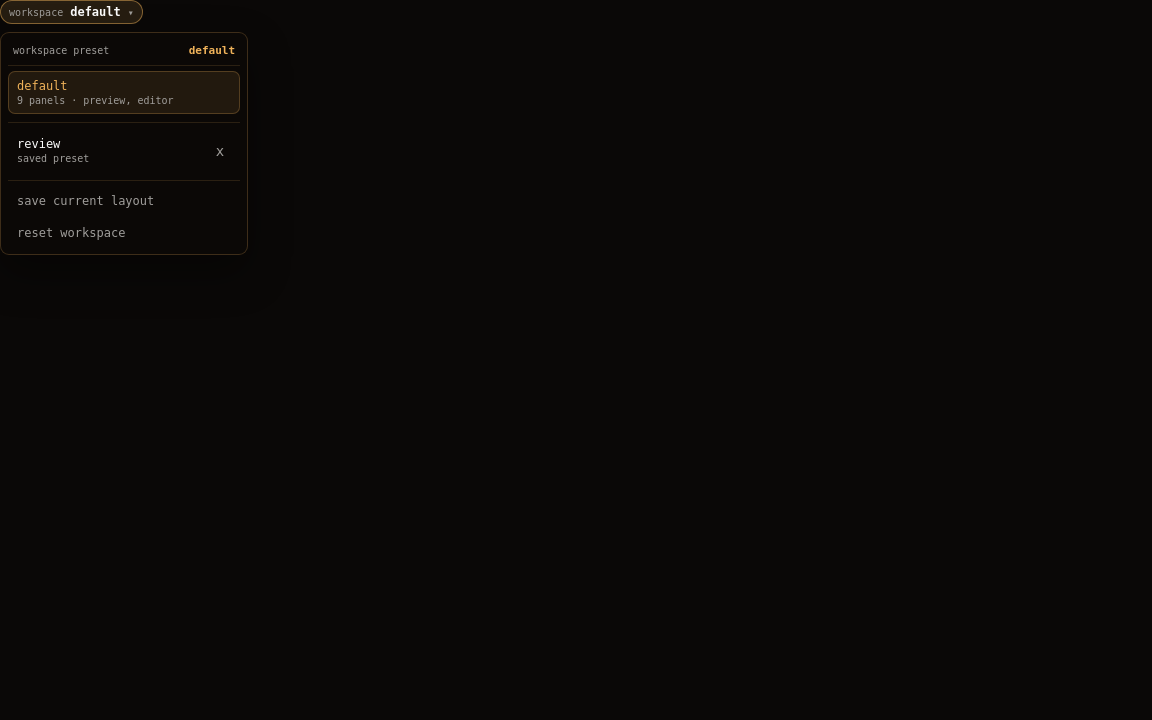
it: workspace menu rejects built-in and existing preset names case-insensitively
The width and height of the screenshot is (1152, 720).
Click the menu item "save current layout": (124, 201) [8,187,240,215]
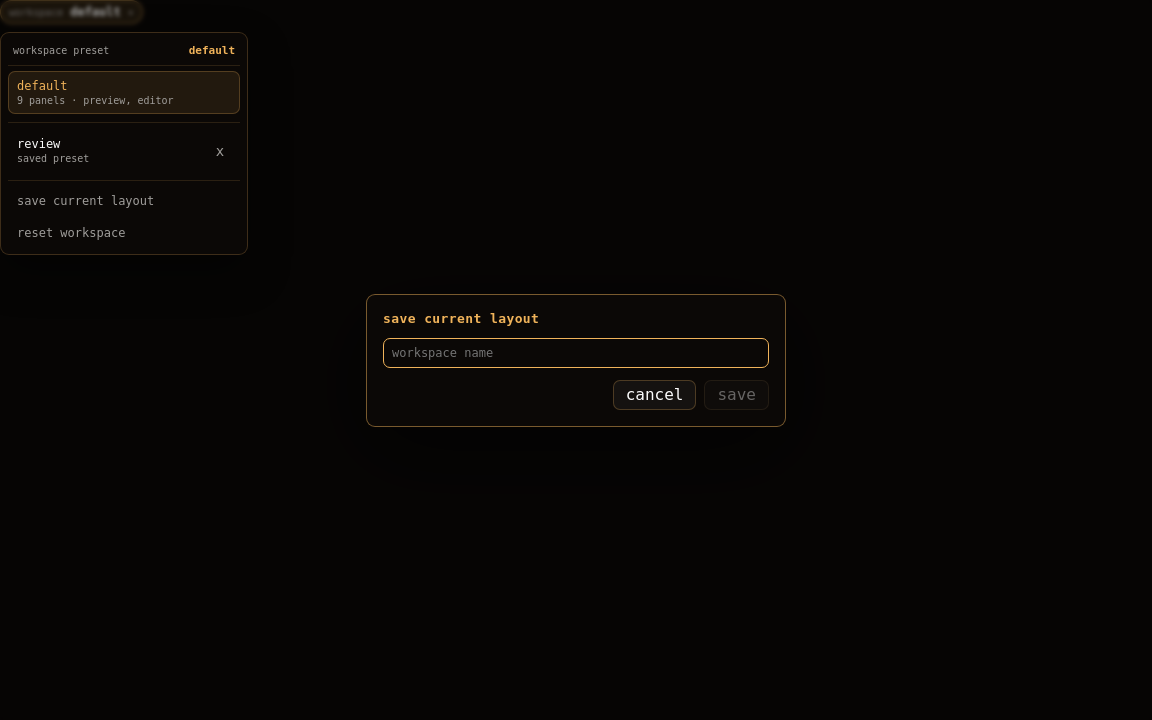
In the field labelled "workspace name": (576, 352) [383,338,769,368], type "default"
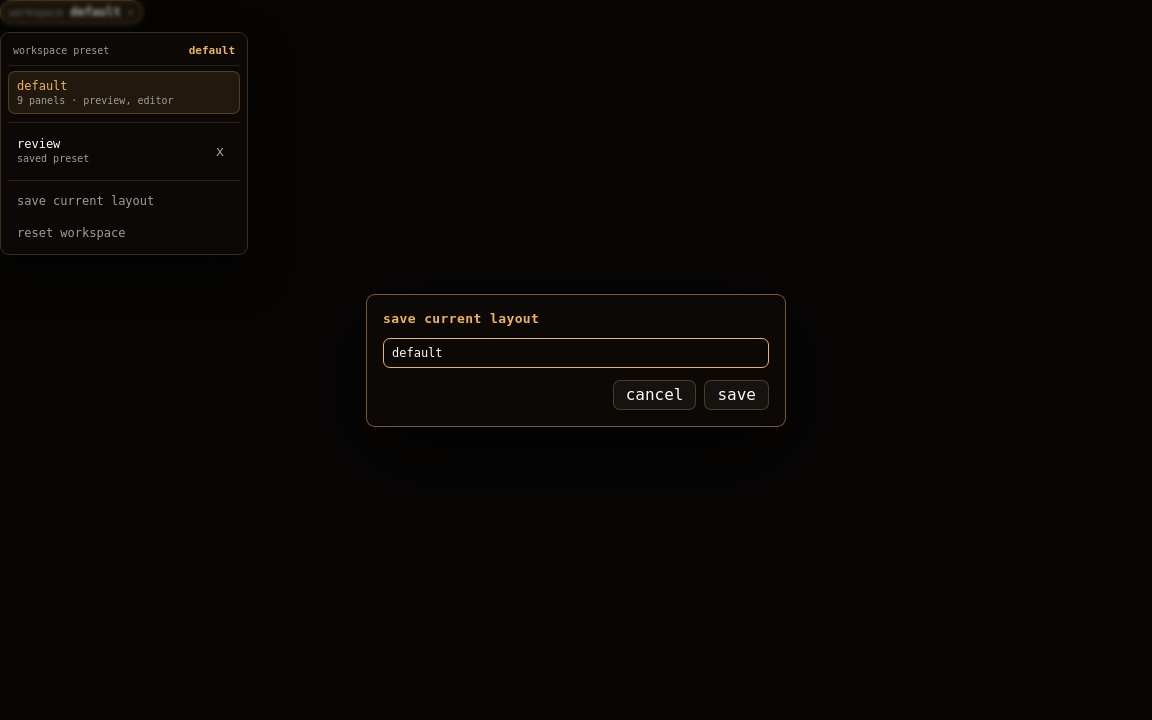
Click the button "save": (737, 394) [704,380,769,410]
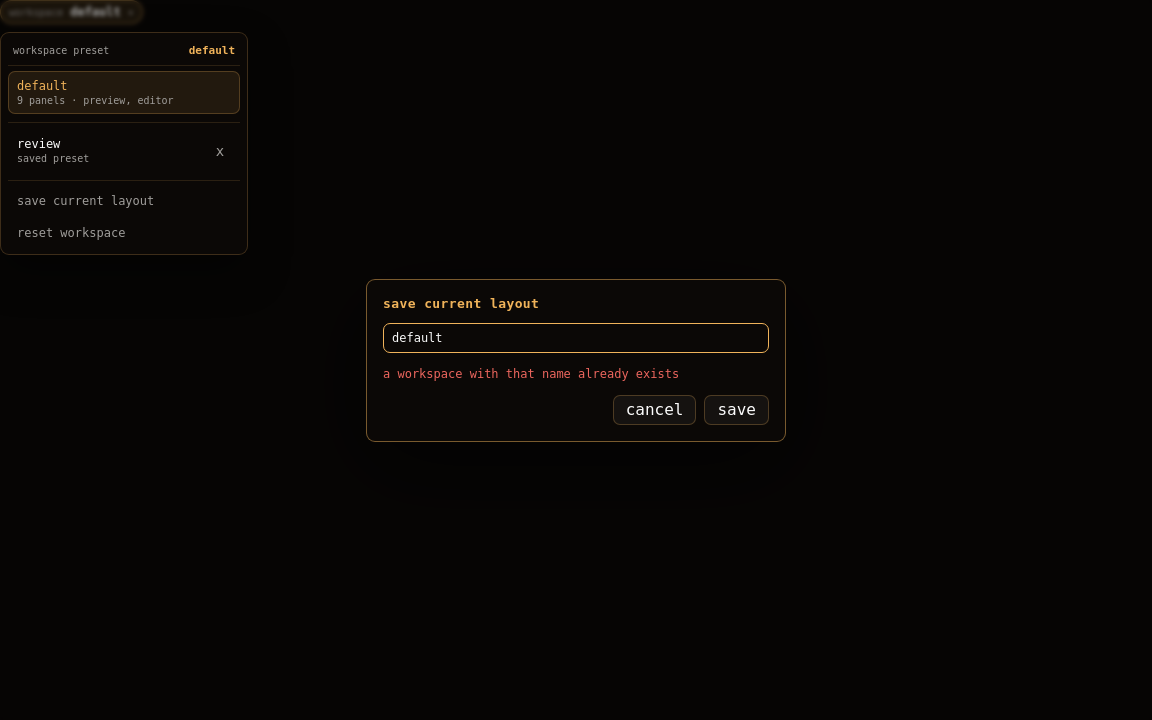
expect the message shows "already exists": met, box [383,366,679,380]
Replace the text in the field named "workspace name" with "review": (576, 338) [383,322,769,352]
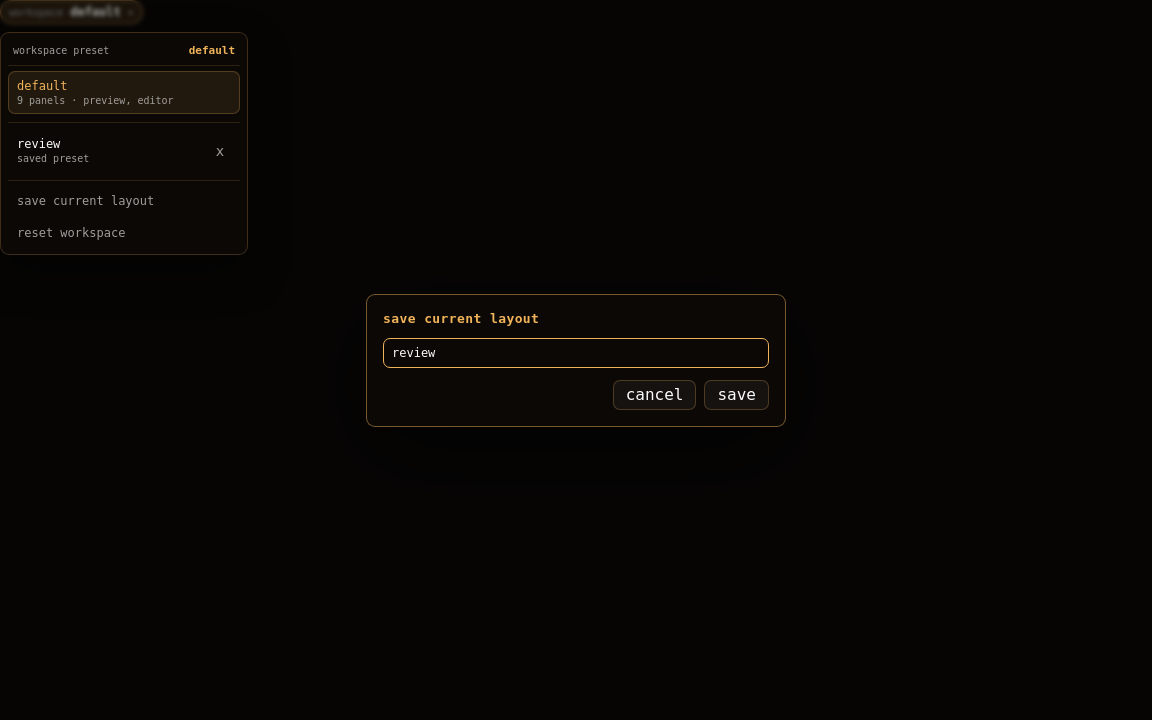
Click the button "save": (737, 394) [704,380,769,410]
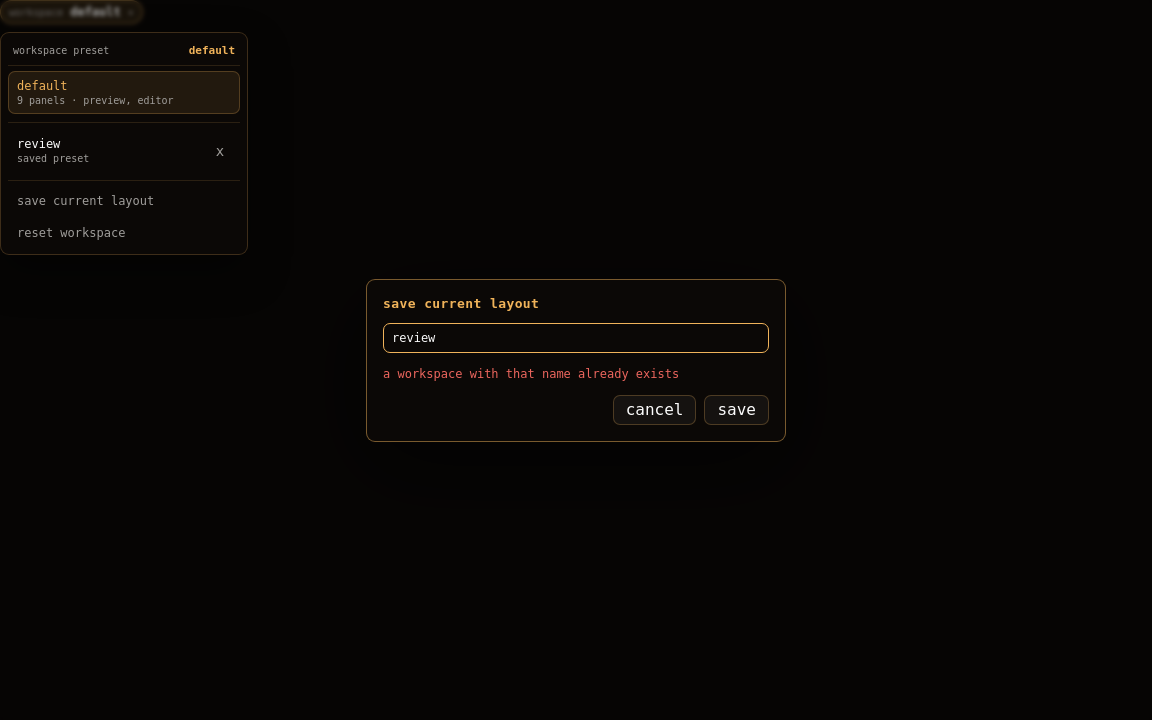
expect the message shows "already exists": met, box [383,366,679,380]
